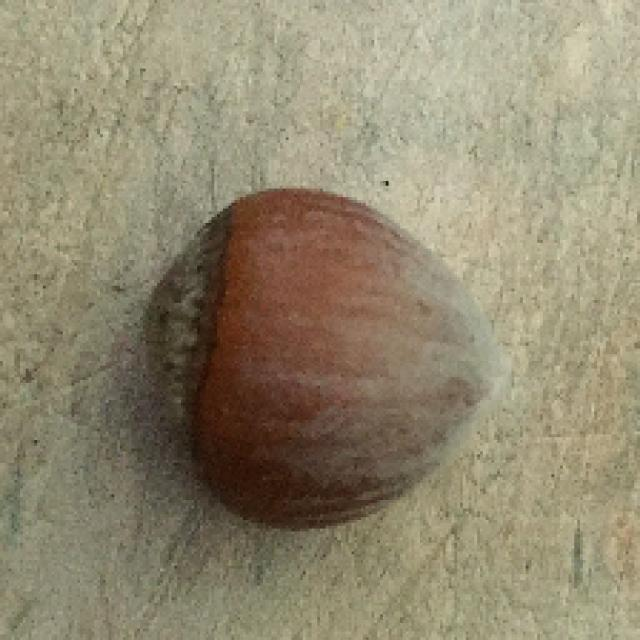qualityHazelnut: (144, 184, 499, 532)
